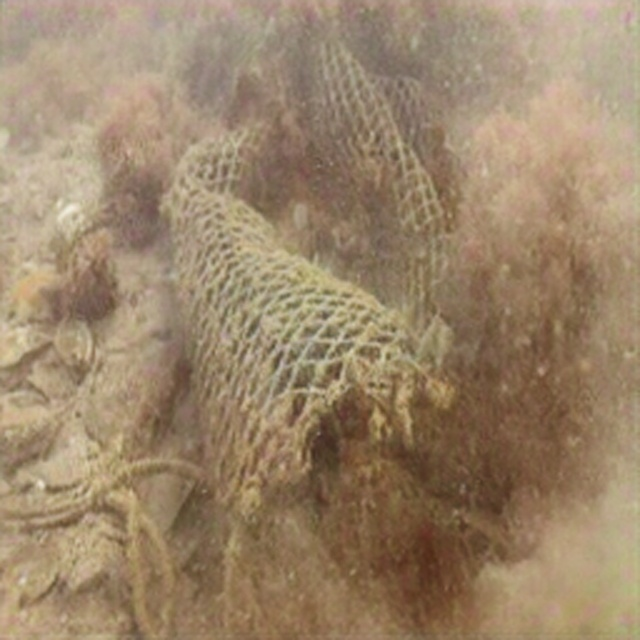mine: (167, 38, 450, 576)
